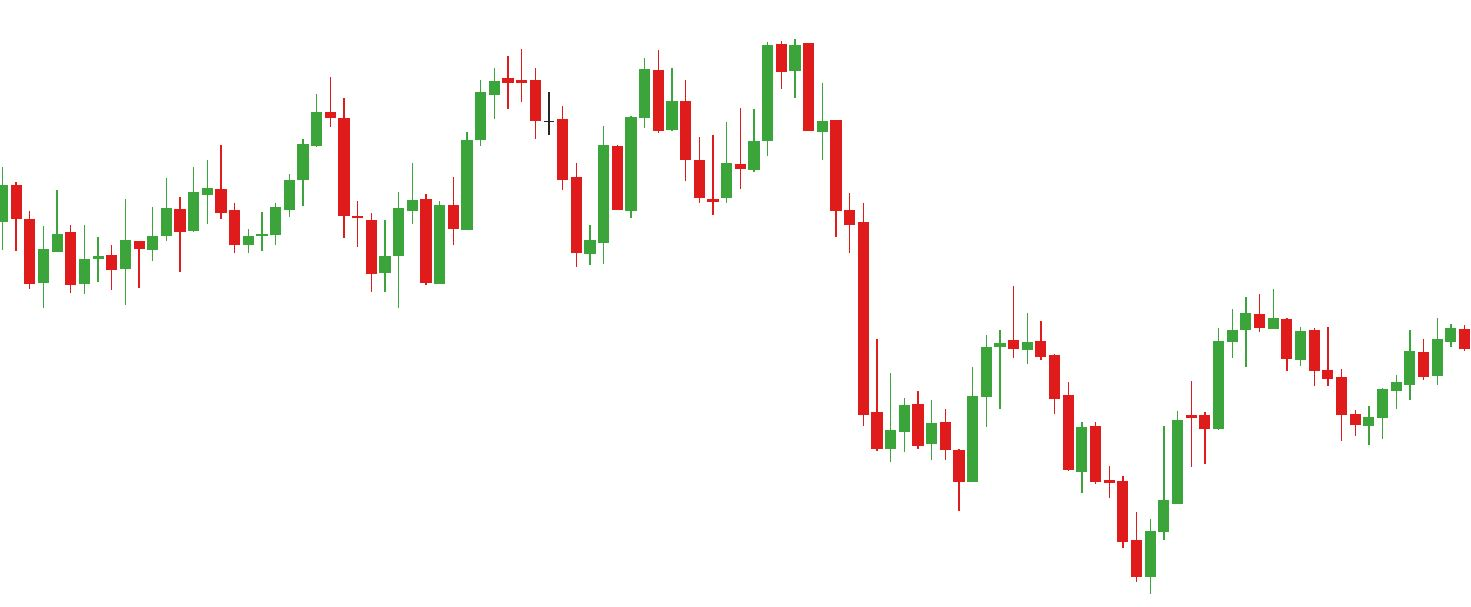buy: (229, 151, 405, 313)
sell: (872, 288, 1023, 424), (639, 38, 788, 159)
